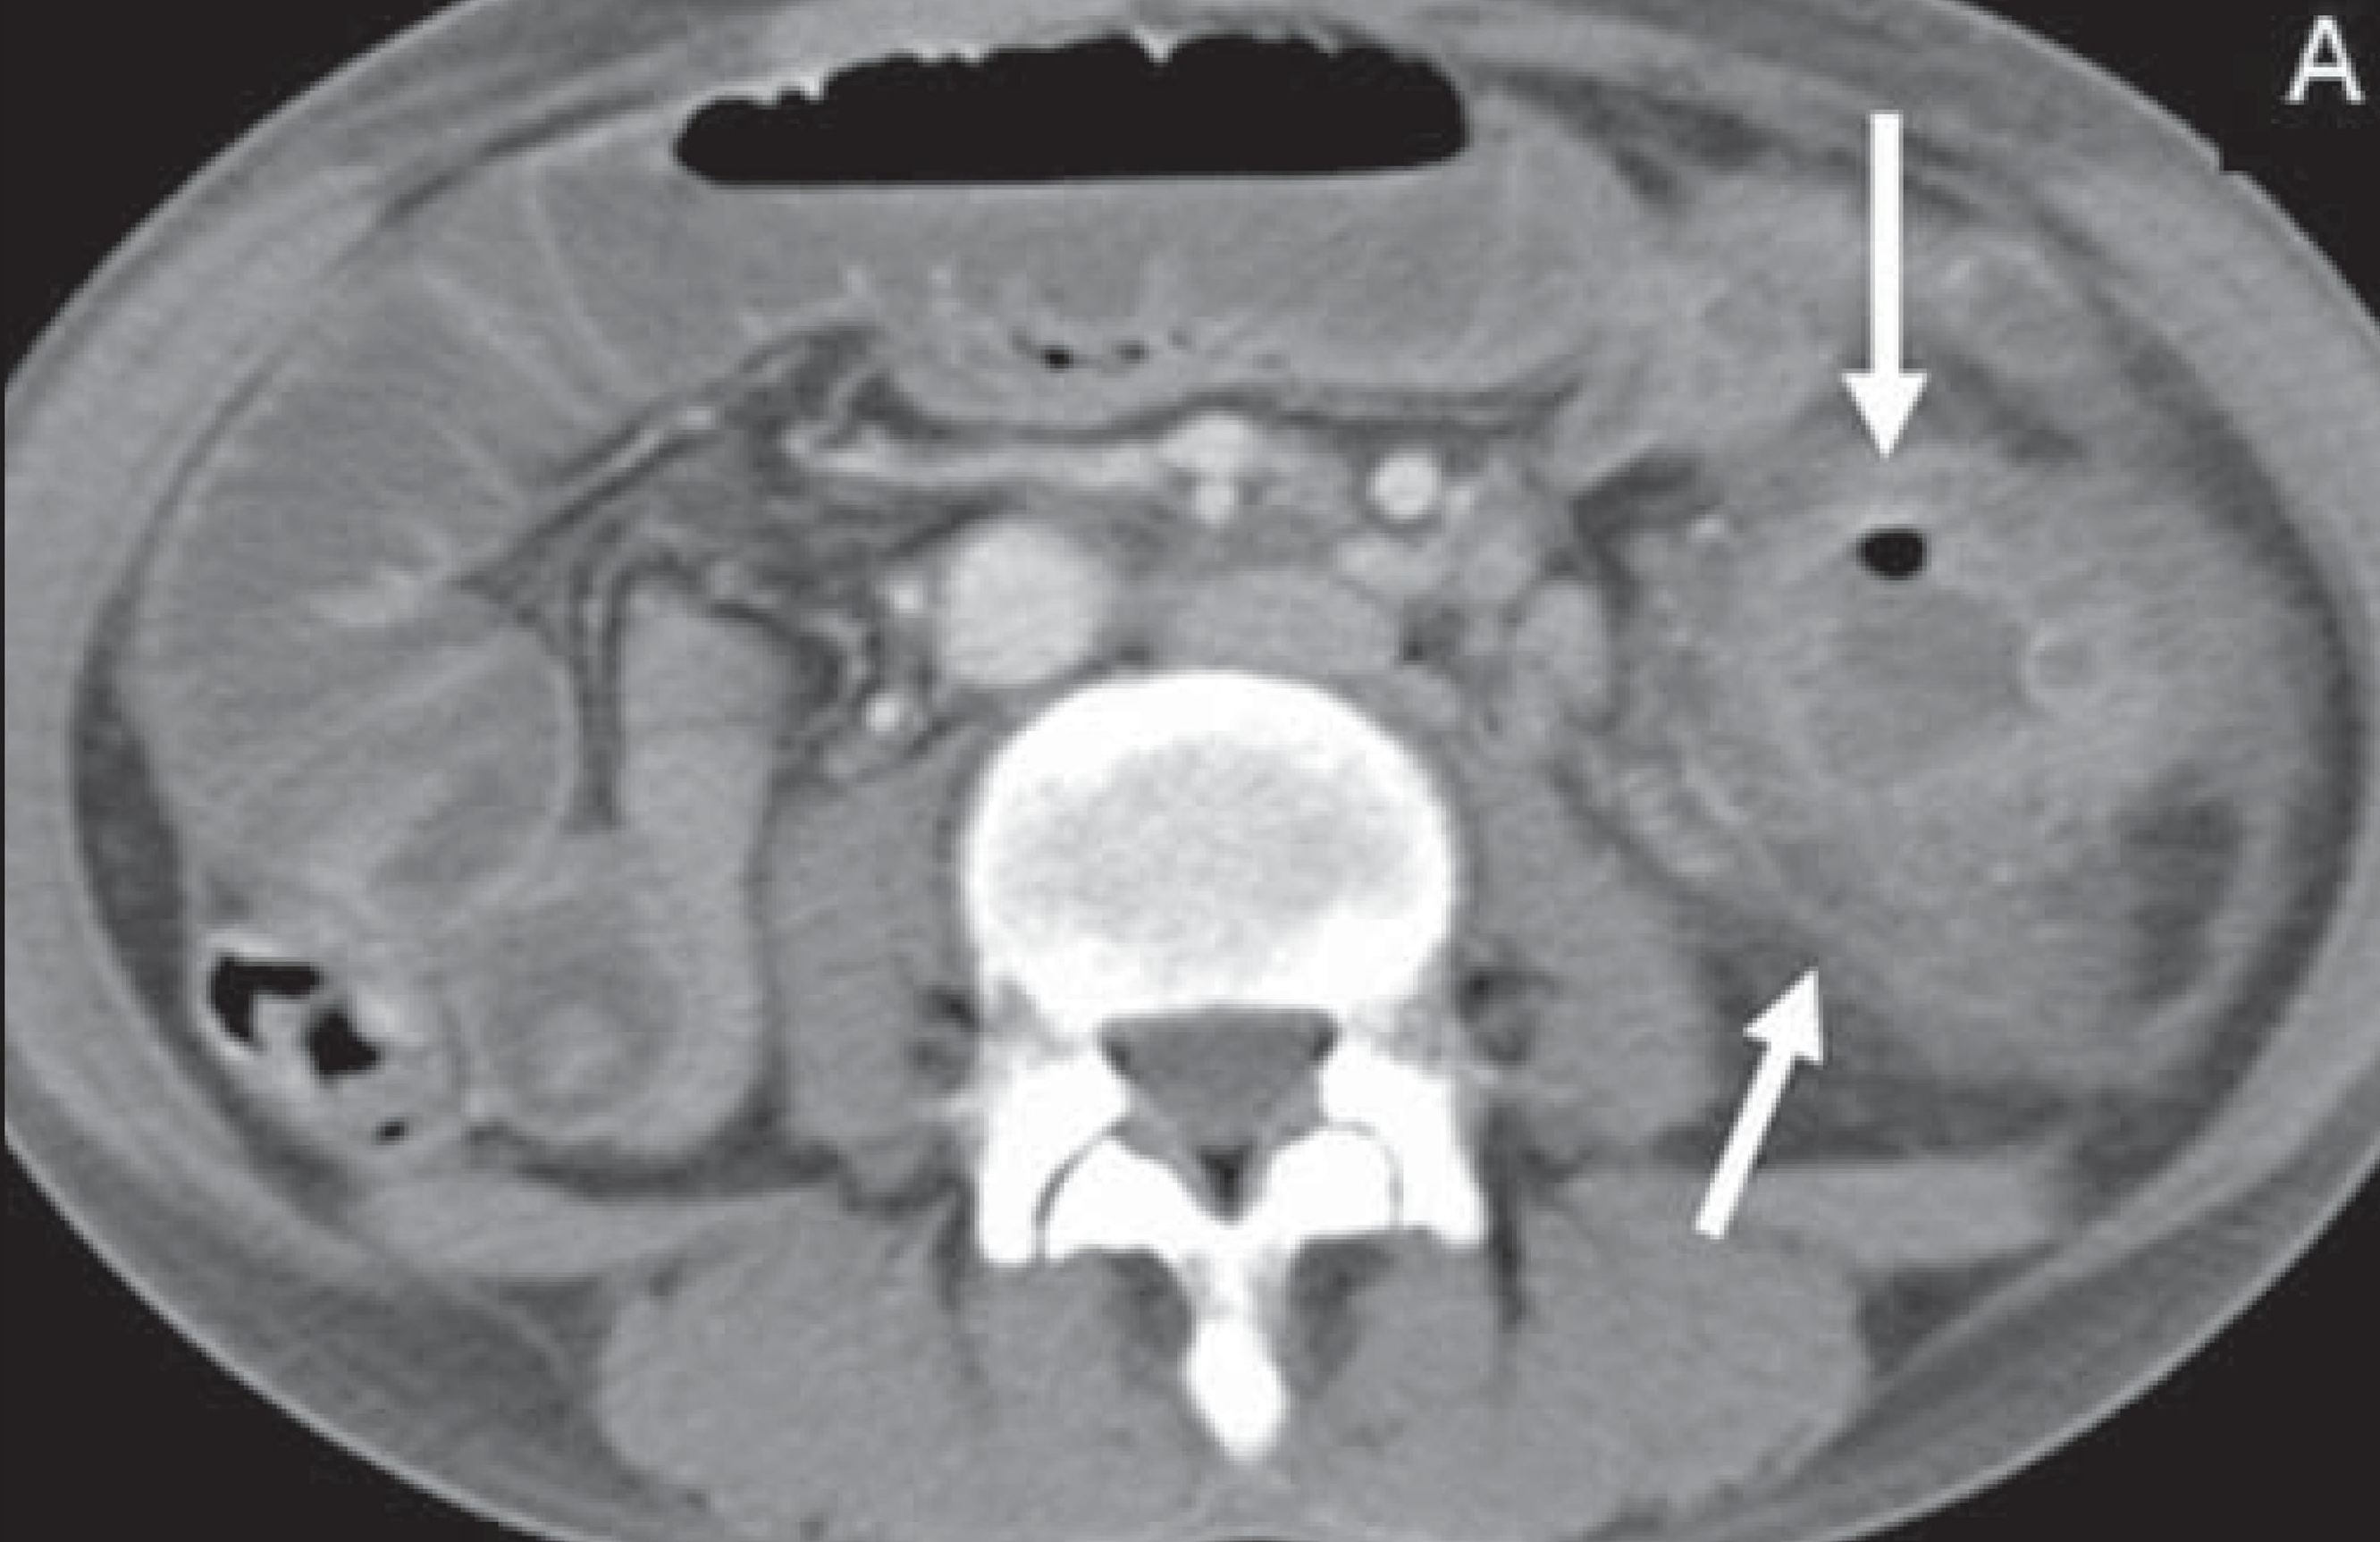anomaly: (1794, 583, 2043, 793)
